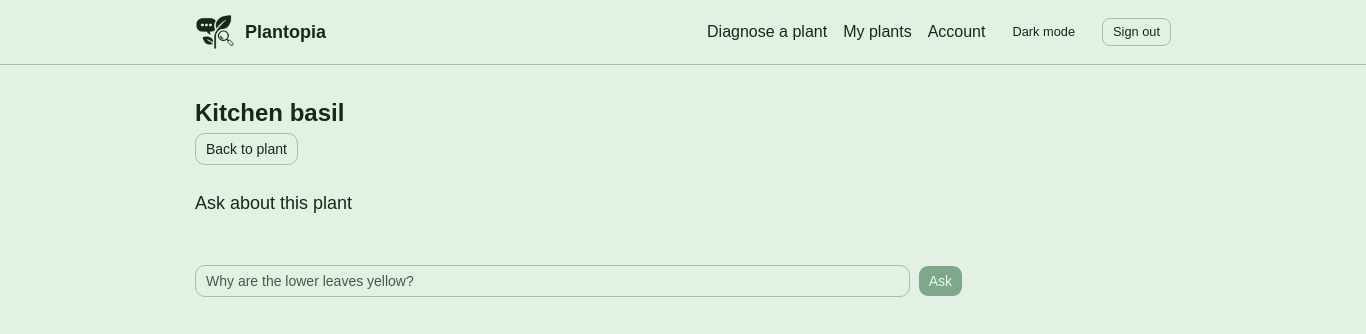
Test: asking something › says which source is being consulted while it works
This screenshot has width=1366, height=334.
In the field named "Your question": (552, 281) left=195, top=265, right=910, bottom=297, type "Why are the leaves yellow?"
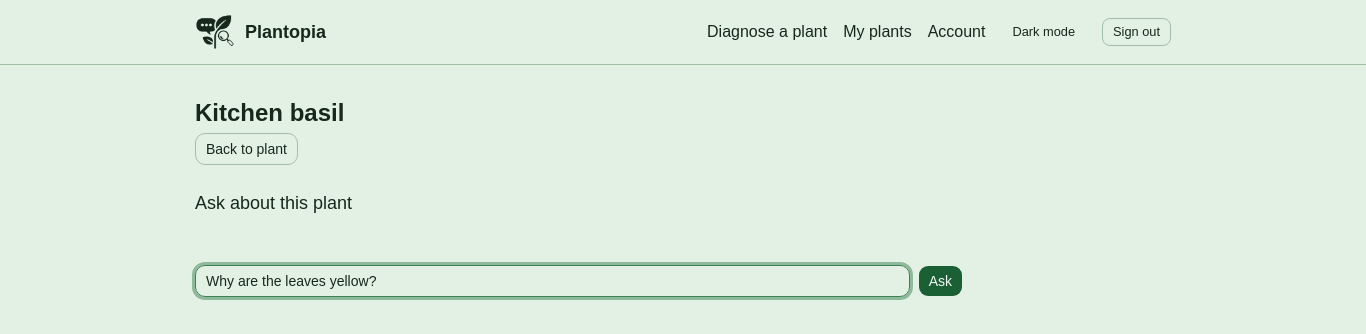
Click the button "Ask": (940, 281) left=918, top=265, right=963, bottom=297
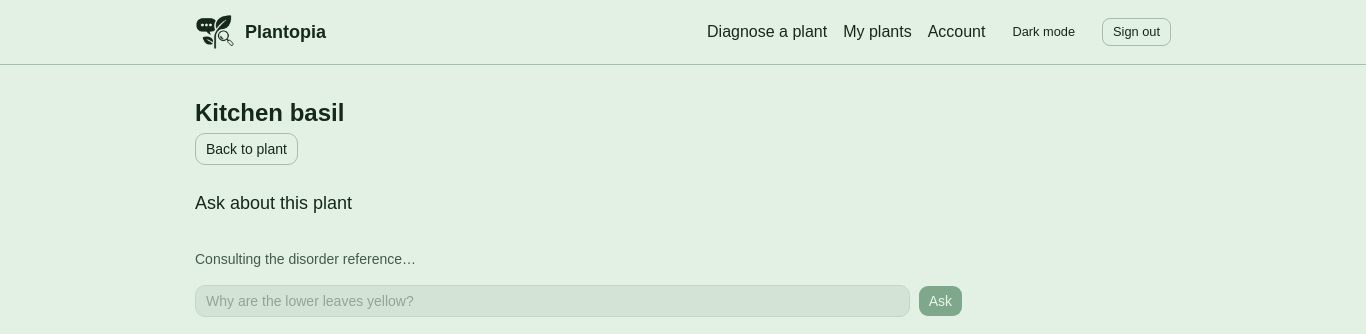
Result: the text "Consulting the disorder reference…" is shown at left=195, top=251, right=416, bottom=267
